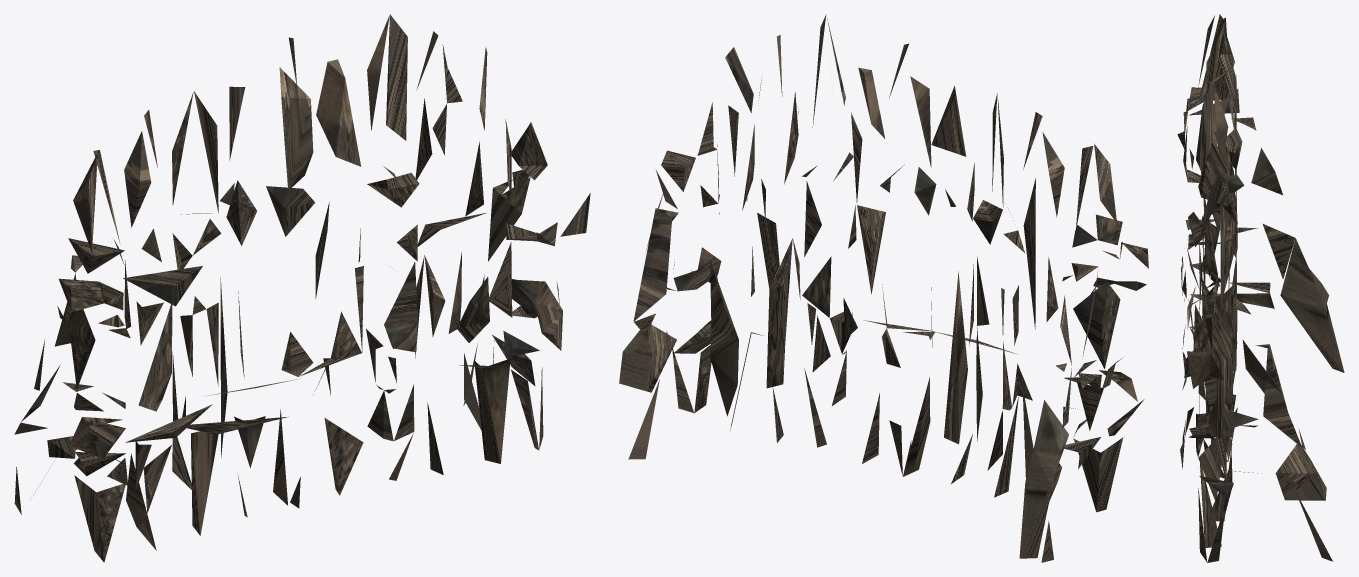
Rendered from prp_barricade_wood_a_LOD2.glb.
3 renders of one model, left to right at view 1: azimuth 30°, elevation 25°; view 2: azimuth 150°, elevation 25°; view 3: azimuth 270°, elevation 25°, orthographic. The views are drawn at different scales.
Parts seen in each view (by area): view 1: geometry_0; view 2: geometry_0; view 3: geometry_0.
Part boxes in pixels (x1,y1,x2,y2): geometry_0: (14, 14, 590, 562); geometry_0: (619, 14, 1148, 562); geometry_0: (1177, 14, 1344, 562).
Bounding box in the file's own units: 1.82 × 1.6 × 0.569.
1 material, 1 textured.
